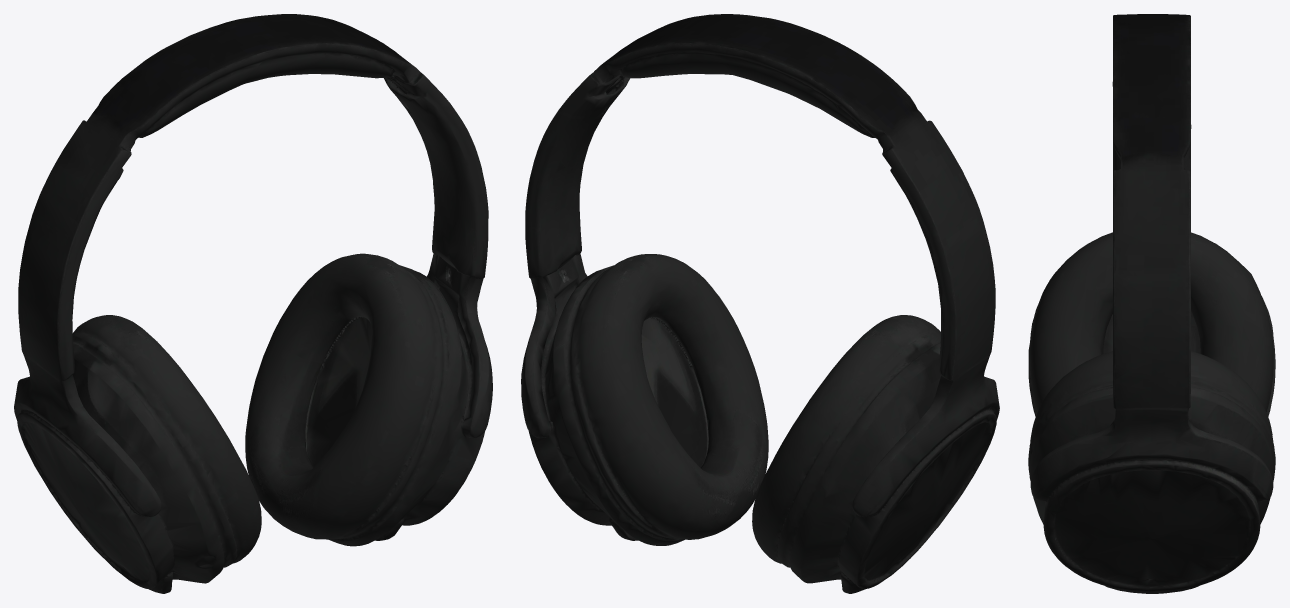
The model's file is headphones.glb.
3 views of the same model, side by side, from view 1: azimuth 30°, elevation 25°; view 2: azimuth 150°, elevation 25°; view 3: azimuth 270°, elevation 25° (orthographic). The views are drawn at different scales.
Visible parts, largest first — view 1: Mesh_0; view 2: Mesh_0; view 3: Mesh_0.
Boxes of the visible parts, left/top/right/bottom form: Mesh_0: left=14, top=14, right=492, bottom=593; Mesh_0: left=521, top=14, right=999, bottom=593; Mesh_0: left=1028, top=14, right=1275, bottom=593.
Bounding box in the file's own units: 1.65 × 1.91 × 0.8505.
Materials: 1 (1 with a texture image).
